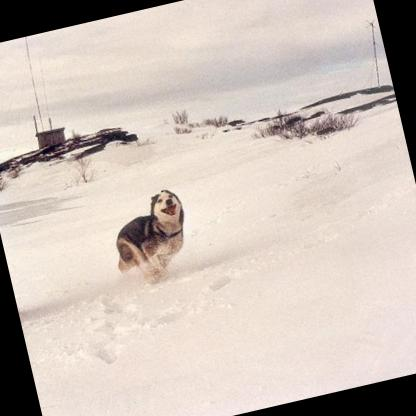Siberian_husky: (100, 184, 198, 292)
